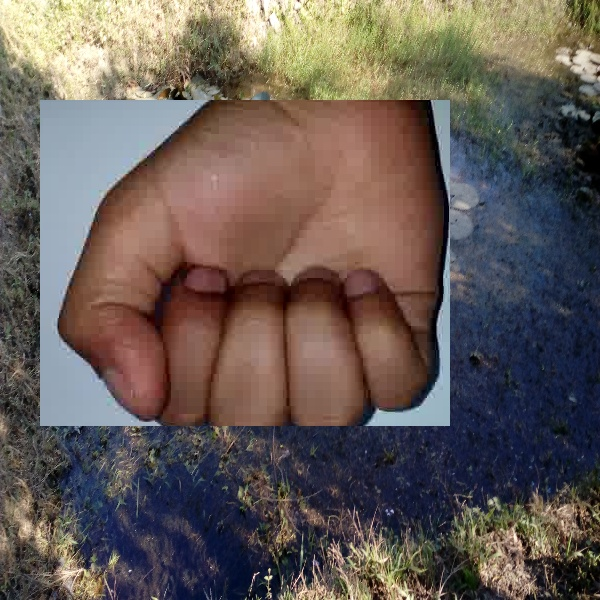A: (40, 100, 450, 426)
